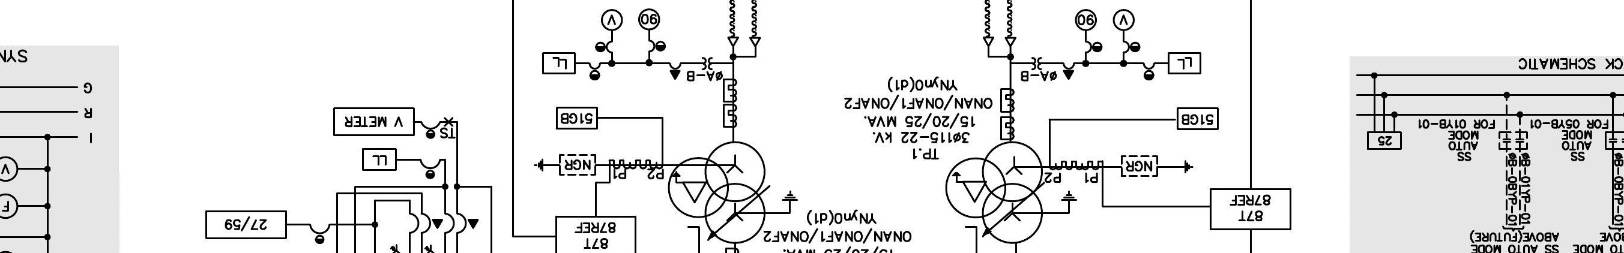11522_tx_ynyn0d1: (667, 141, 766, 245), (945, 141, 1043, 245)
LL: (361, 147, 398, 171), (542, 52, 577, 75), (1167, 52, 1201, 75)
NGR_future: (1121, 154, 1194, 177), (533, 153, 597, 176)
terminator_double: (983, 36, 1017, 58), (727, 36, 761, 58)
v_m: (1112, 8, 1135, 31), (601, 8, 624, 31)
v_m_digital: (332, 107, 415, 137)
